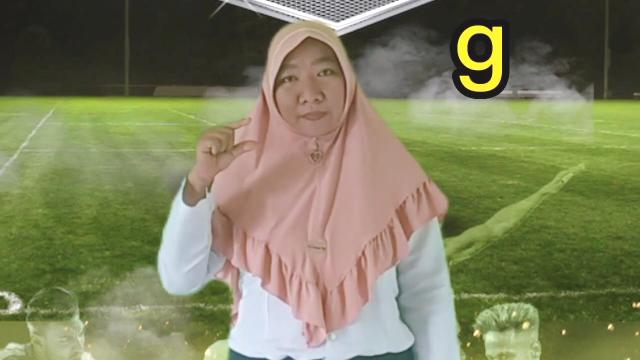G: (192, 116, 262, 178)
